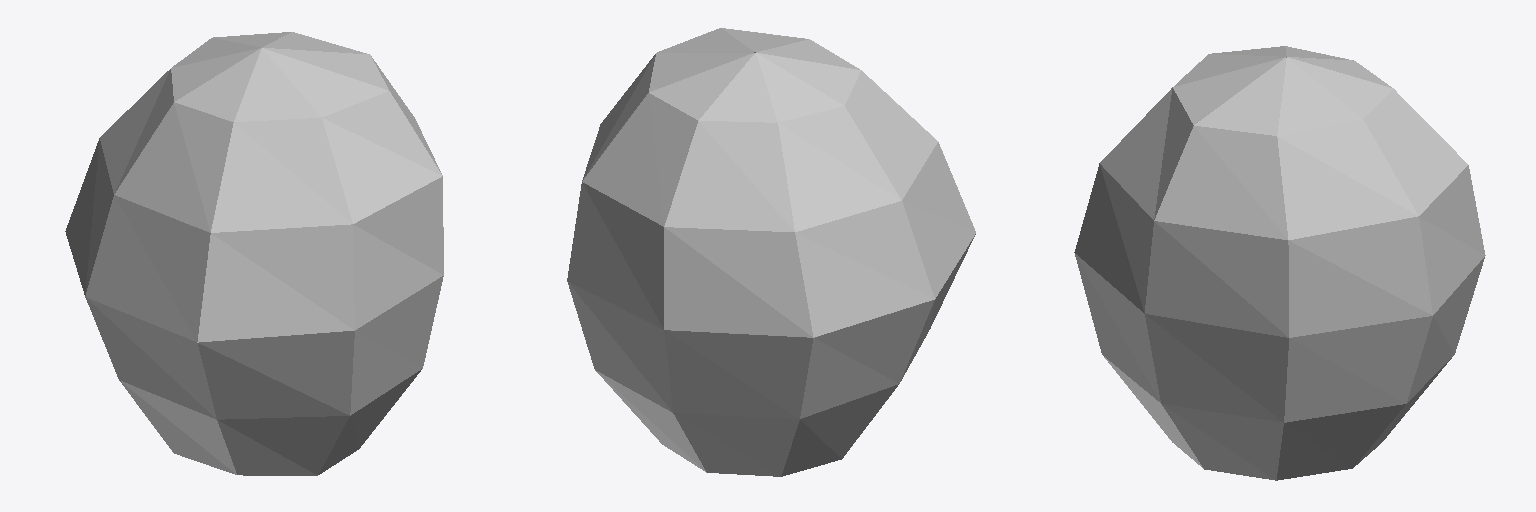
The model's file is bgrnd56_static.obj.
3 views of the same model, side by side, from view 1: azimuth 30°, elevation 25°; view 2: azimuth 150°, elevation 25°; view 3: azimuth 270°, elevation 25° (orthographic).
Visible parts, largest first — view 1: frm-sphere9; view 2: frm-sphere9; view 3: frm-sphere9.
Boxes of the visible parts, x1=… form: frm-sphere9: x1=65, y1=32, x2=443, y2=475; frm-sphere9: x1=567, y1=28, x2=975, y2=476; frm-sphere9: x1=1074, y1=46, x2=1485, y2=480.
Size of the model in its own units: 8.7 by 10 by 9.16.